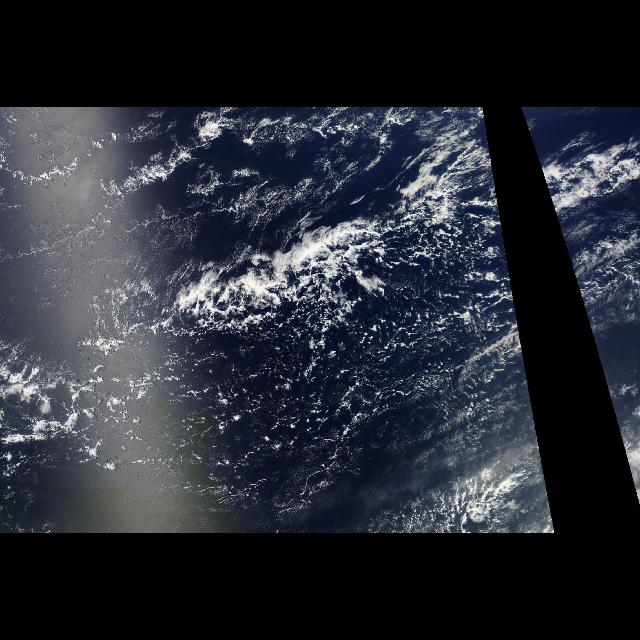Fish: (63, 214, 519, 328), (554, 214, 614, 322)
Gravel: (101, 249, 551, 515)
Sugar: (22, 125, 380, 218)
